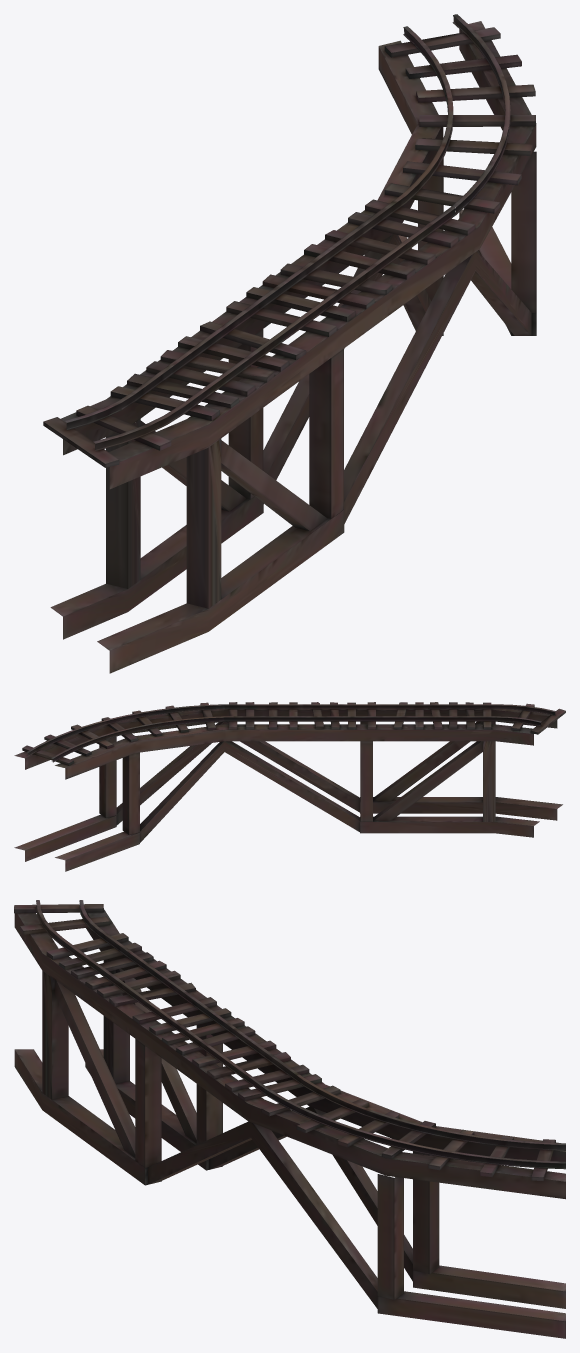
The picture shows the model from 3 angles, top to bottom: view 1: azimuth 30°, elevation 25°; view 2: azimuth 150°, elevation 25°; view 3: azimuth 270°, elevation 25°; orthographic projection. The views are drawn at different scales.
Parts seen in each view (by area): view 1: body0_model0_lod0_mesh0; view 2: body0_model0_lod0_mesh0; view 3: body0_model0_lod0_mesh0.
Part boxes in pixels (bbox=[...]): body0_model0_lod0_mesh0: bbox=[43, 14, 536, 673]; body0_model0_lod0_mesh0: bbox=[14, 702, 565, 871]; body0_model0_lod0_mesh0: bbox=[14, 900, 565, 1338].
Bounding box in the file's own units: 405 × 115 × 344.
Materials: 1 (1 with a texture image).
